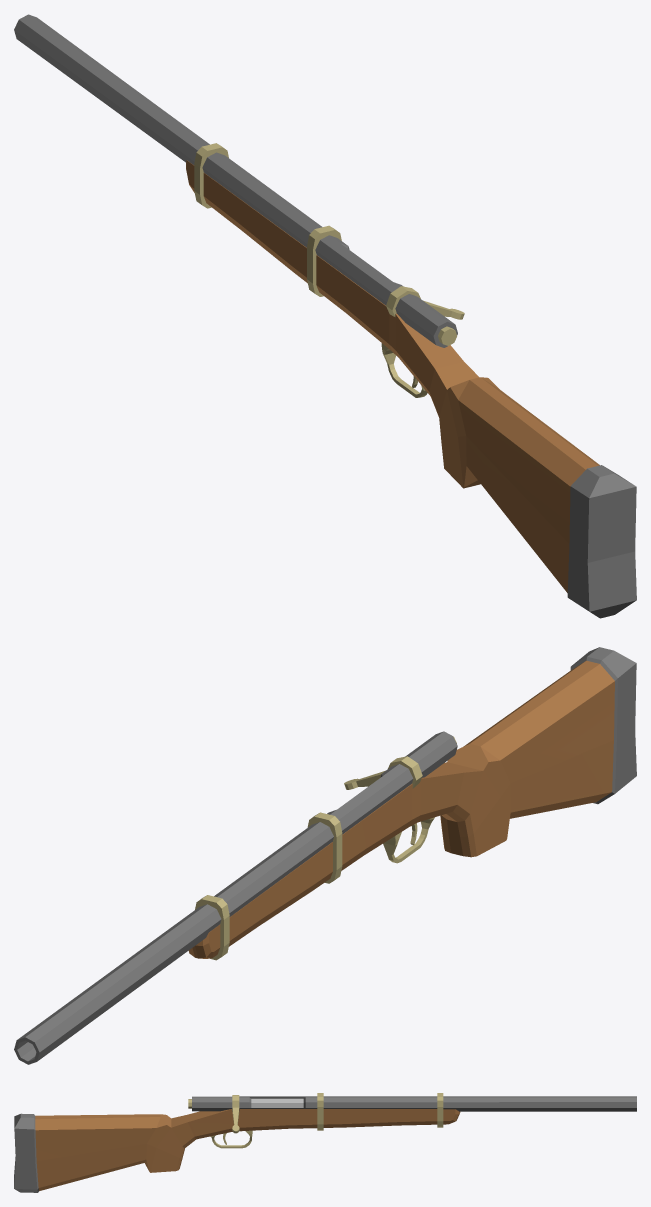
File: BoltAction-Rifles-A-Medium.fbx
The picture shows the model from 3 angles, top to bottom: view 1: azimuth 30°, elevation 25°; view 2: azimuth 150°, elevation 25°; view 3: azimuth 270°, elevation 25°; orthographic projection. The views are drawn at different scales.
Visible parts, largest first — view 1: SniperRifle-A.002; view 2: SniperRifle-A.002; view 3: SniperRifle-A.002.
Part boxes in pixels (x1,y1,x2,y2): SniperRifle-A.002: [14, 14, 636, 618]; SniperRifle-A.002: [14, 647, 636, 1064]; SniperRifle-A.002: [14, 1093, 636, 1192].
Size of the model in its own units: 123 by 255 by 1498.
